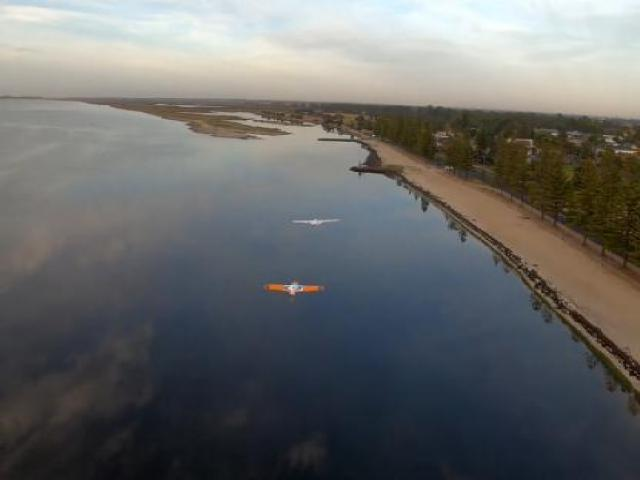uav: (262, 279, 326, 300), (292, 211, 341, 230)
